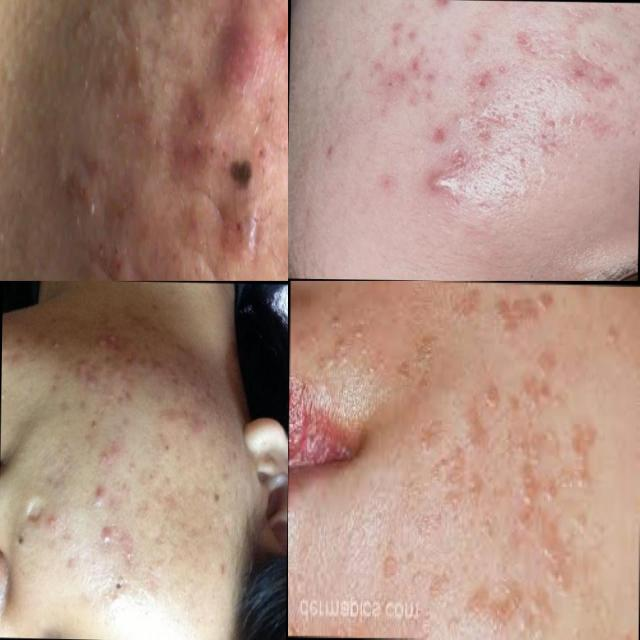8: (420, 164, 476, 198), (90, 330, 134, 354), (90, 478, 113, 510), (95, 522, 117, 550), (39, 508, 63, 532), (82, 373, 102, 393), (75, 355, 93, 377)
blackheads: (51, 141, 142, 281), (177, 116, 230, 186), (309, 127, 346, 161), (387, 12, 421, 48), (511, 30, 548, 57), (469, 62, 499, 94), (588, 70, 624, 94), (536, 110, 570, 133), (478, 118, 500, 148), (422, 126, 451, 148), (407, 53, 431, 79), (567, 48, 583, 85)
pustules: (213, 12, 271, 100)
